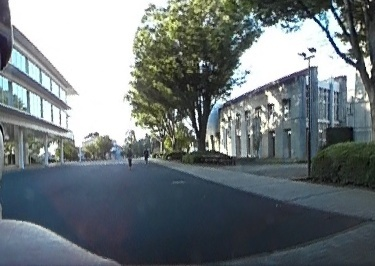person: (125, 142, 133, 164), (143, 146, 150, 166)
